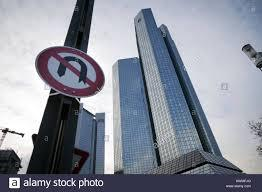no_u_turn: (33, 45, 103, 97)
